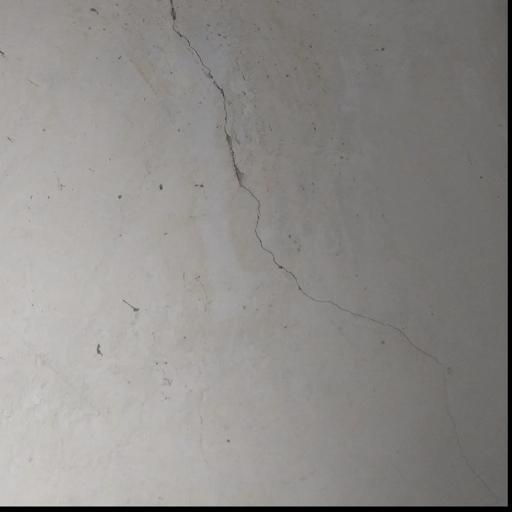minor_crack: (156, 0, 509, 512)
